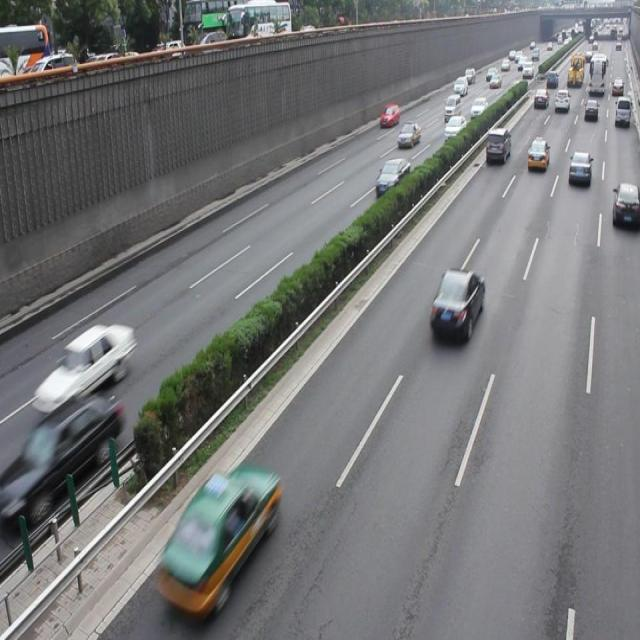car: (156, 466, 277, 614), (19, 392, 120, 512), (38, 320, 136, 415), (427, 266, 484, 342), (610, 181, 640, 230), (374, 157, 409, 197), (566, 150, 590, 188), (526, 138, 549, 171)
